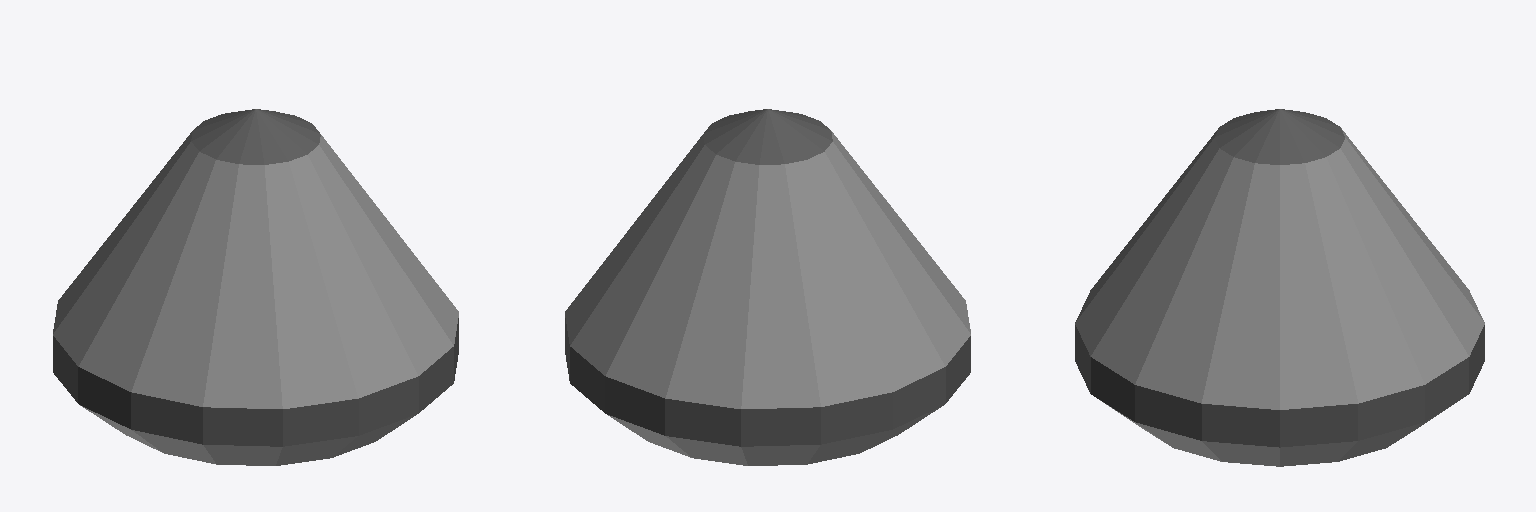
File: PlayerShipModel.obj
3 renders of one model, left to right at view 1: azimuth 30°, elevation 25°; view 2: azimuth 150°, elevation 25°; view 3: azimuth 270°, elevation 25°, orthographic.
Visible parts, largest first — view 1: PlayerShipModel; view 2: PlayerShipModel; view 3: PlayerShipModel.
Part boxes in pixels (bbox=[...]): PlayerShipModel: bbox=[53, 109, 458, 465]; PlayerShipModel: bbox=[565, 109, 970, 465]; PlayerShipModel: bbox=[1075, 109, 1484, 466].
Bounding box in the file's own units: 1 × 0.7917 × 1.